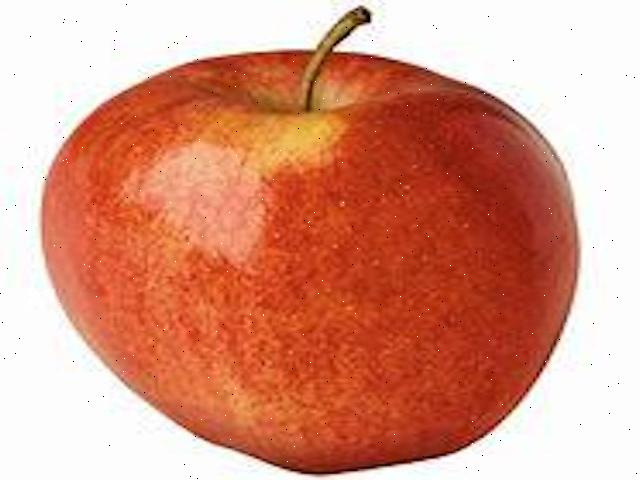apple: (32, 0, 587, 478)
